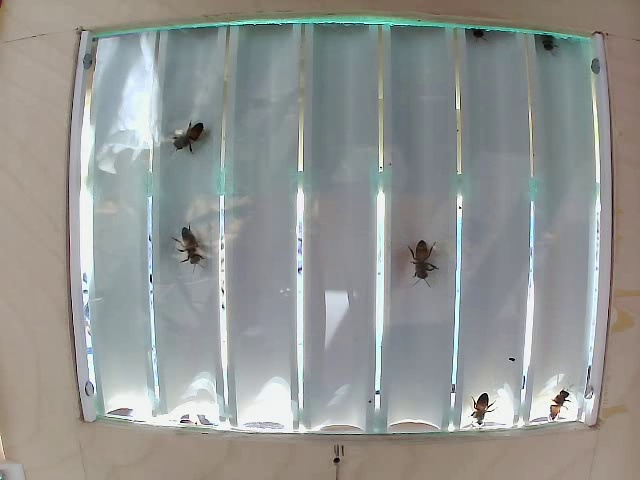bee: (161, 118, 215, 166), (414, 225, 438, 293), (180, 230, 216, 262)
